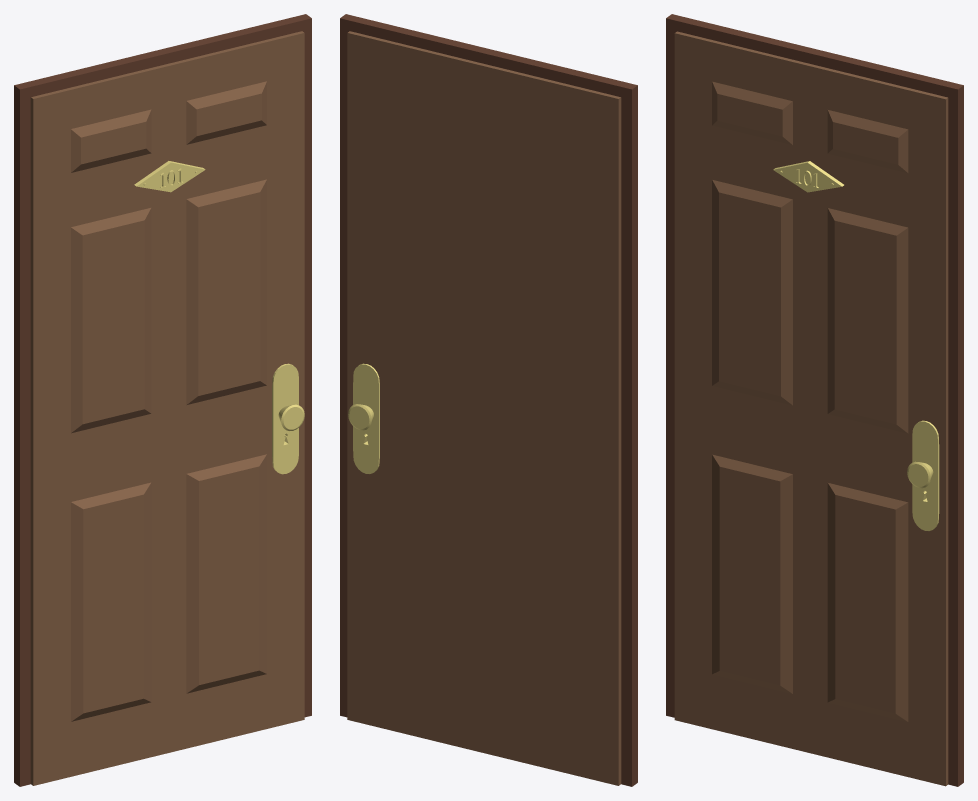
The model's file is Door_corridor.fbx.
3 renders of one model, left to right at view 1: azimuth 30°, elevation 25°; view 2: azimuth 150°, elevation 25°; view 3: azimuth 330°, elevation 25°, orthographic.
Parts seen in each view (by area): view 1: door, door_frame, door_lock, sign1, handle_1; view 2: door, door_frame, door_lock, handle_2; view 3: door, door_frame, door_lock, sign1, handle_1.
Boxes of the visible parts, box(x1,y1,x2,y2) form: door: box(30, 31, 304, 785); door_frame: box(14, 14, 311, 786); door_lock: box(272, 363, 298, 474); sign1: box(134, 161, 205, 192); handle_1: box(278, 404, 304, 430); door: box(347, 31, 621, 785); door_frame: box(340, 14, 637, 786); door_lock: box(353, 363, 379, 473); handle_2: box(348, 404, 373, 430); door: box(674, 31, 948, 786); door_frame: box(666, 14, 963, 786); door_lock: box(912, 420, 939, 530); sign1: box(773, 161, 843, 192); handle_1: box(907, 461, 933, 488).
Bounding box in the file's own units: 94.22 × 215 × 14.65.
